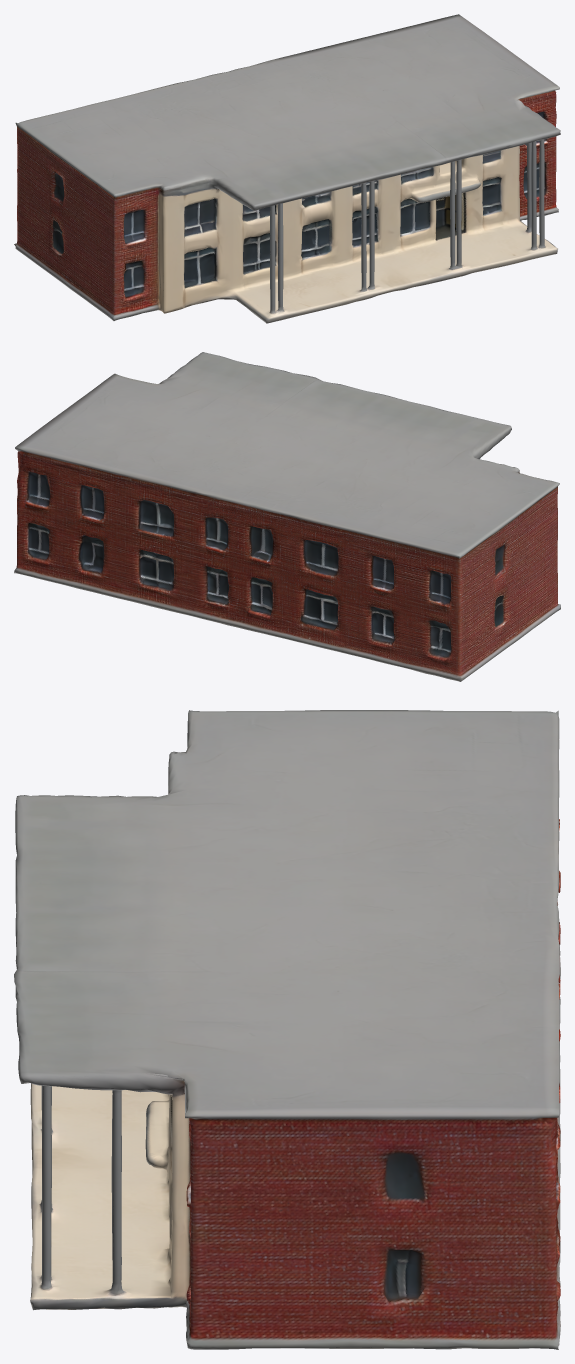
File: campus_glass_canopy.glb
The picture shows the model from 3 angles, top to bottom: view 1: azimuth 30°, elevation 25°; view 2: azimuth 150°, elevation 25°; view 3: azimuth 270°, elevation 25°; orthographic projection. The views are drawn at different scales.
Parts seen in each view (by area): view 1: campus_glass_canopy; view 2: campus_glass_canopy; view 3: campus_glass_canopy.
Boxes of the visible parts, x1,y1,x2,y2 form: campus_glass_canopy: (14,14,560,323); campus_glass_canopy: (14,352,560,681); campus_glass_canopy: (14,710,560,1349).
Bounding box in the file's own units: 16 × 4.33 × 9.1.
Materials: 1 (1 with a texture image).
